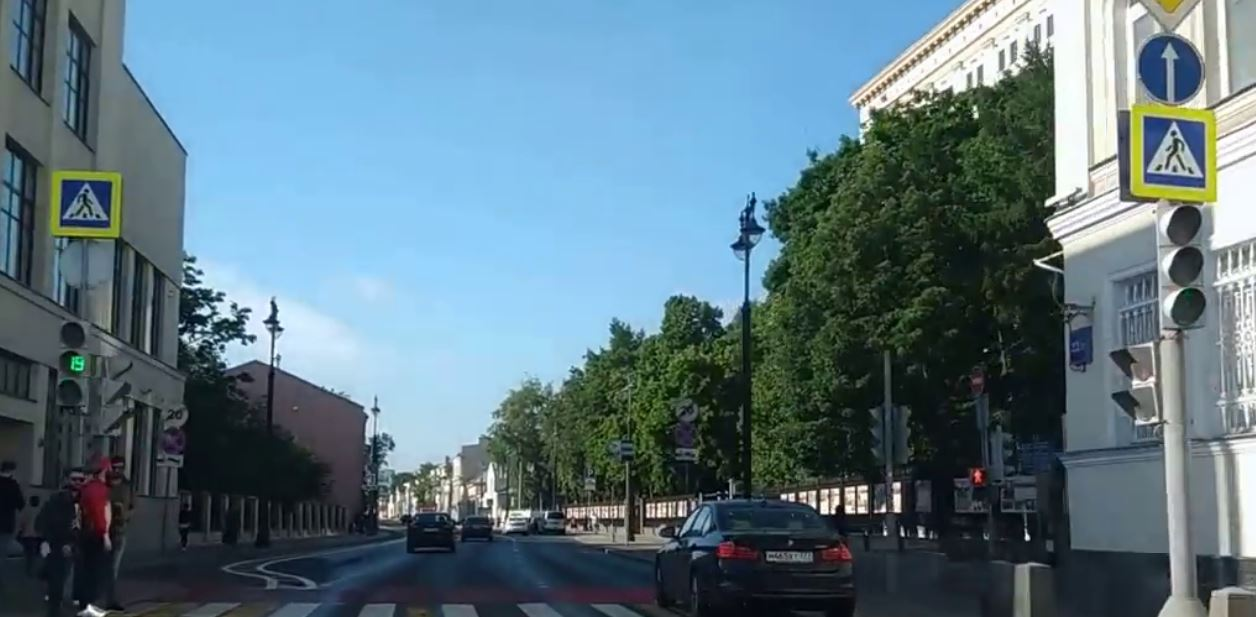Yaya Gecidi: (1141, 121, 1206, 191), (61, 180, 118, 227)
